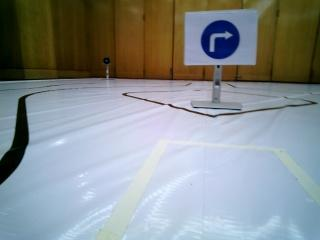right: (199, 15, 245, 64)
